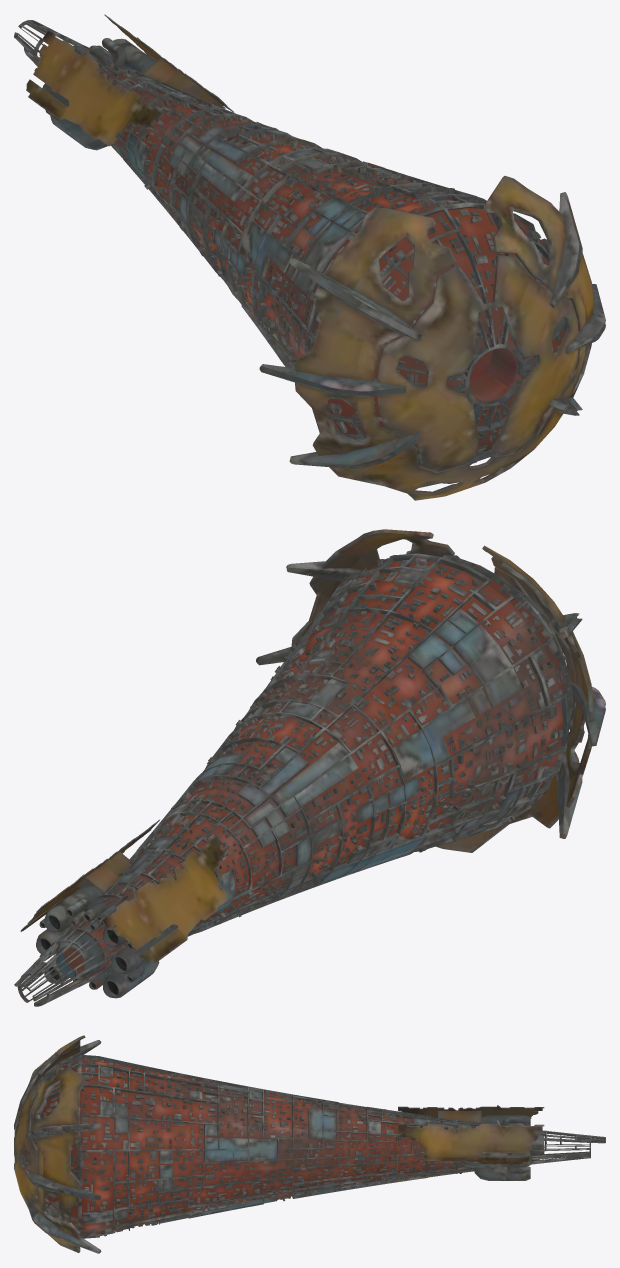
File: titan.glb
The picture shows the model from 3 angles, top to bottom: view 1: azimuth 30°, elevation 25°; view 2: azimuth 150°, elevation 25°; view 3: azimuth 270°, elevation 25°; orthographic projection. The views are drawn at different scales.
Parts seen in each view (by area): view 1: titan_Material #30_0; view 2: titan_Material #30_0; view 3: titan_Material #30_0.
Part boxes in pixels (x1,y1,x2,y2): titan_Material #30_0: (14, 14, 605, 500); titan_Material #30_0: (14, 529, 605, 1006); titan_Material #30_0: (14, 1035, 605, 1253).
Bounding box in the file's own units: 130 × 112 × 314.
Materials: 1 (1 with a texture image).
